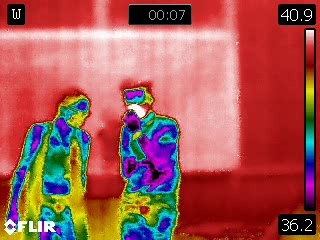human: (5, 86, 95, 240), (116, 79, 184, 240)
